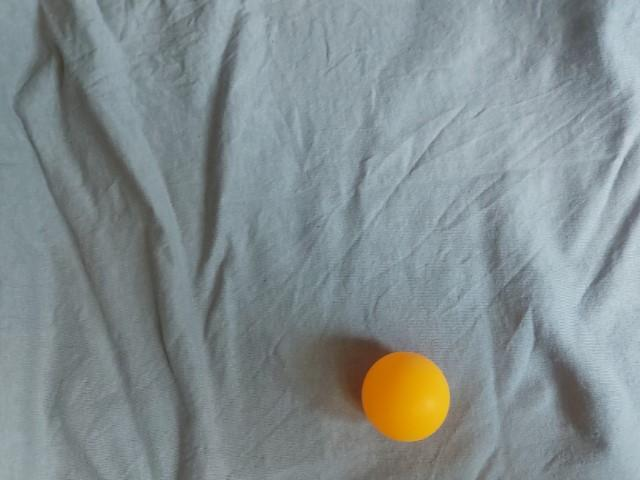oball: (181, 34, 287, 135)
